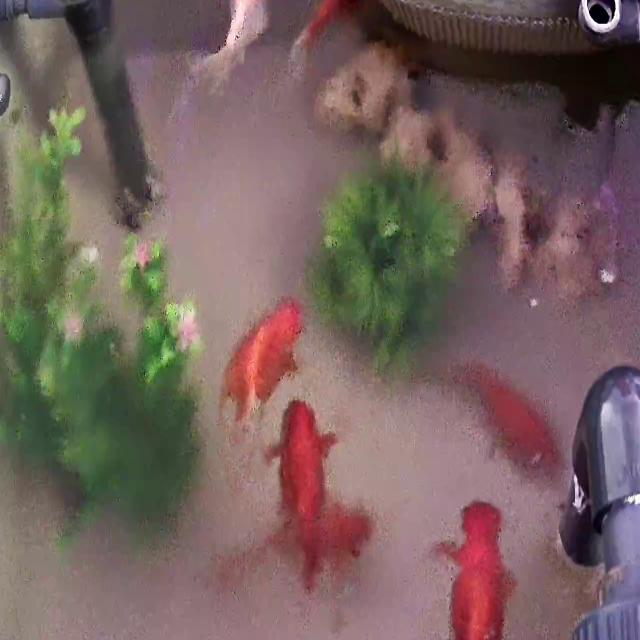fish: (210, 506, 356, 602), (448, 364, 563, 473), (219, 295, 303, 428), (436, 502, 515, 640), (267, 396, 334, 536), (200, 0, 272, 95), (295, 0, 369, 62)
